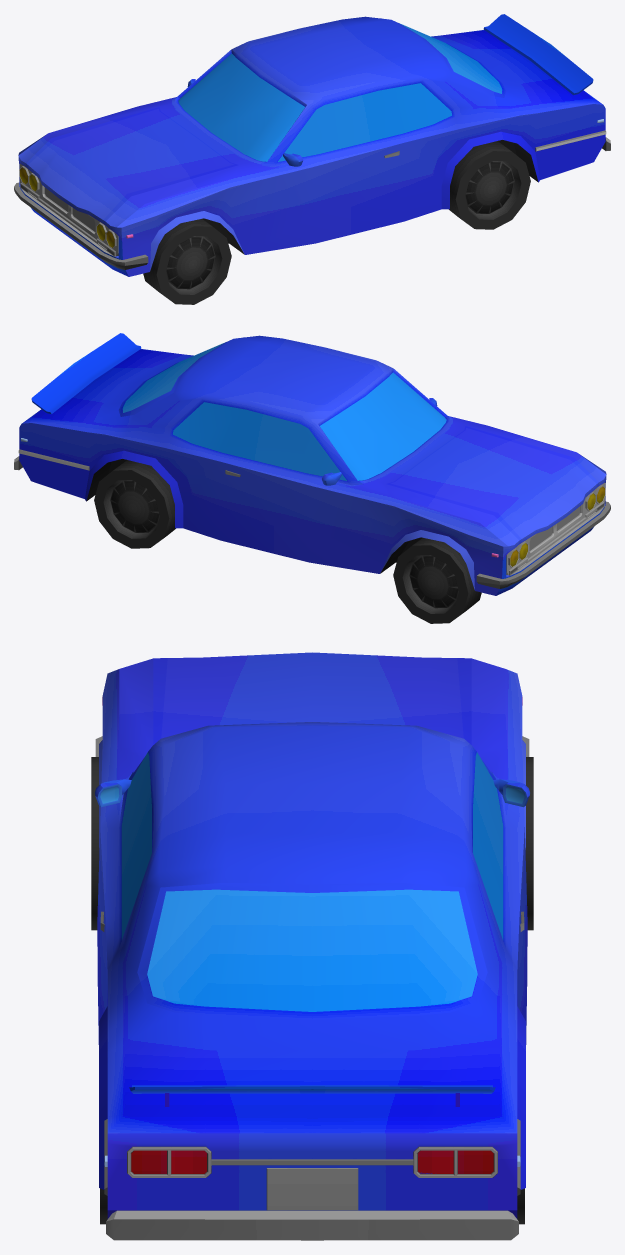
The model's file is toycar2.fbx.
3 views of the same model, one above another, from view 1: azimuth 30°, elevation 25°; view 2: azimuth 150°, elevation 25°; view 3: azimuth 270°, elevation 25° (orthographic). The views are drawn at different scales.
Visible parts, largest first — view 1: Cube; view 2: Cube; view 3: Cube.
Boxes of the visible parts, box(x1,y1,x2,y2) form: Cube: box(14, 14, 610, 304); Cube: box(14, 333, 610, 623); Cube: box(91, 652, 533, 1240).
Size of the model in its own units: 669 by 212 by 255.
